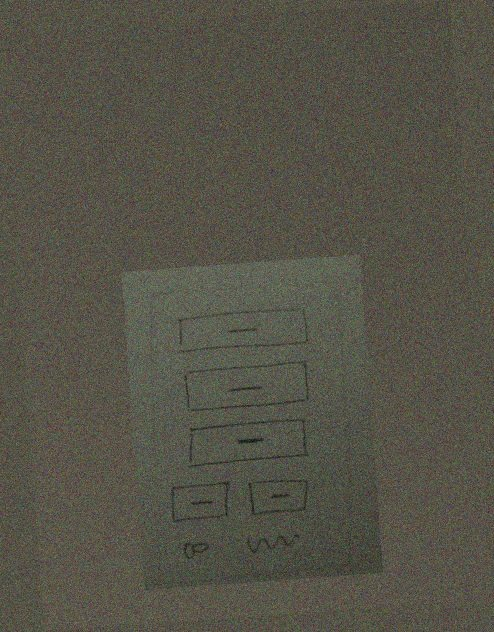button: (171, 299, 313, 358), (177, 359, 317, 415), (181, 414, 315, 471), (242, 473, 315, 523), (166, 478, 237, 527)
switch: (174, 536, 216, 562)
text: (240, 529, 304, 560)
